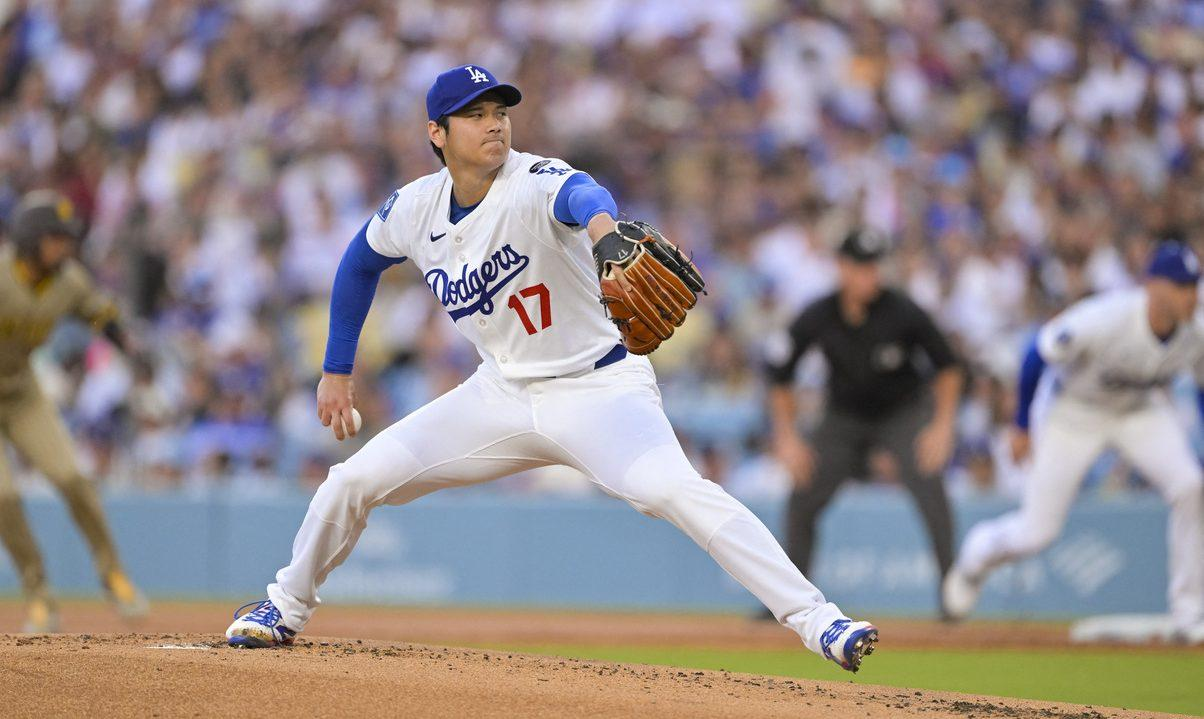baseball: (331, 410, 365, 438)
